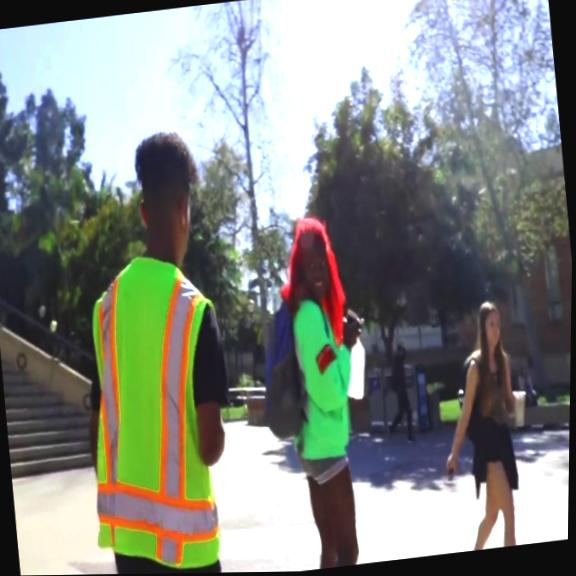safety_vest: (68, 242, 242, 575)
